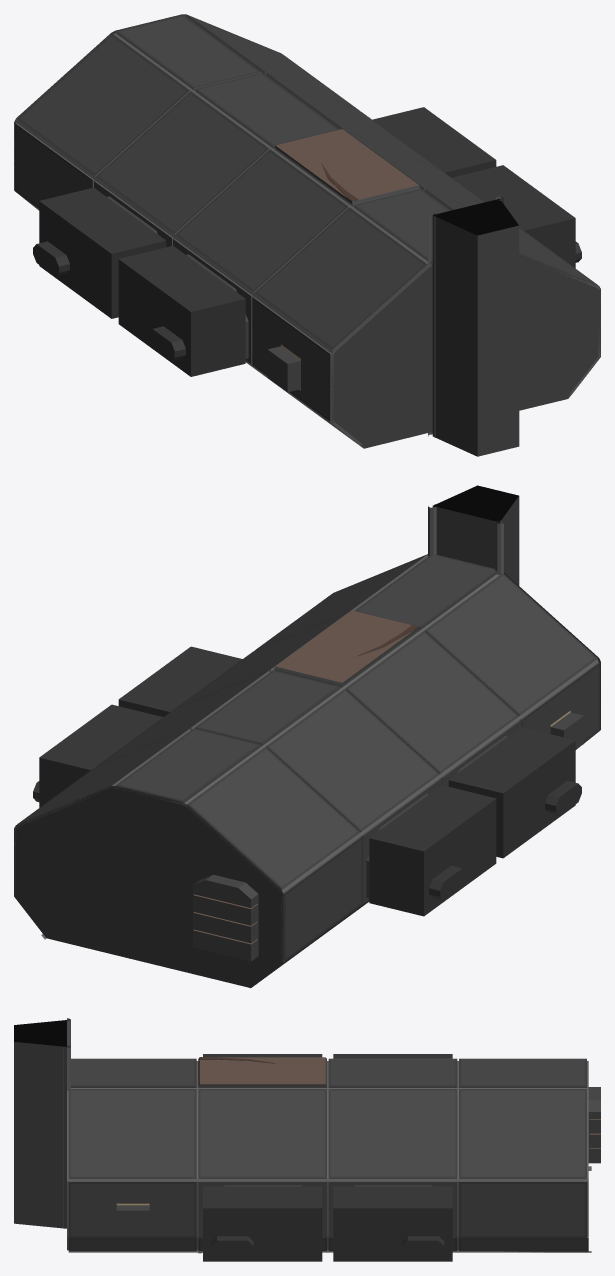
The model's file is stuff.fbx.
3 renders of one model, top to bottom at view 1: azimuth 30°, elevation 25°; view 2: azimuth 150°, elevation 25°; view 3: azimuth 270°, elevation 25°, orthographic. The views are drawn at different scales.
Visible parts, largest first — view 1: Bunker; view 2: Bunker; view 3: Bunker.
Boxes of the visible parts, box(x1,y1,x2,y2) form: Bunker: box(14, 14, 600, 456); Bunker: box(14, 485, 600, 988); Bunker: box(14, 1018, 600, 1261).
Bounding box in the file's own units: 919 × 477 × 1396.
Materials: 2 (2 with a texture image).
